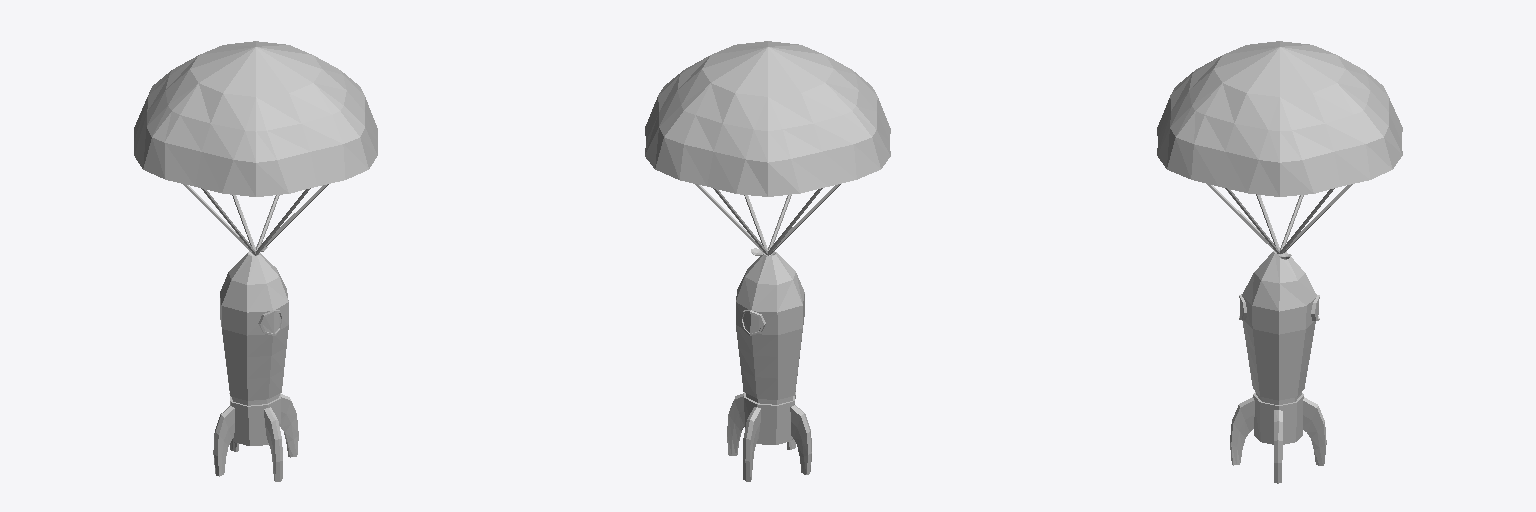
The model's file is Rocket.obj.
3 views of the same model, side by side, from view 1: azimuth 30°, elevation 25°; view 2: azimuth 150°, elevation 25°; view 3: azimuth 270°, elevation 25° (orthographic).
Visible parts, largest first — view 1: Cube.001_Cube.010, Cube_Cube.001; view 2: Cube.001_Cube.010, Cube_Cube.001; view 3: Cube.001_Cube.010, Cube_Cube.001.
Boxes of the visible parts, x1=… form: Cube.001_Cube.010: x1=134, y1=41, x2=377, y2=255; Cube_Cube.001: x1=213, y1=246, x2=298, y2=481; Cube.001_Cube.010: x1=645, y1=41, x2=890, y2=255; Cube_Cube.001: x1=727, y1=248, x2=811, y2=481; Cube.001_Cube.010: x1=1157, y1=41, x2=1402, y2=253; Cube_Cube.001: x1=1230, y1=251, x2=1326, y2=483.
Bounding box in the file's own units: 5.87 × 10.38 × 5.53.